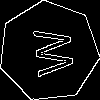W: (24, 26, 74, 79)
